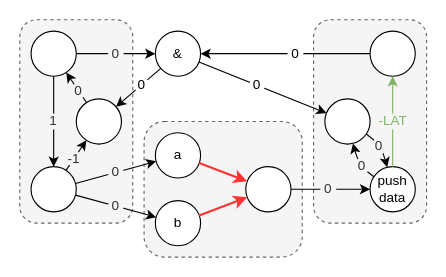
This 446x277 diagram has some shape labels left out. The centre of each missing label's shape, as x and y in pixels:
may pop: (53,53)
may push: (392,53)
pop: (98,121)
pop data: (53,189)
push: (347,121)
result: (268,189)
